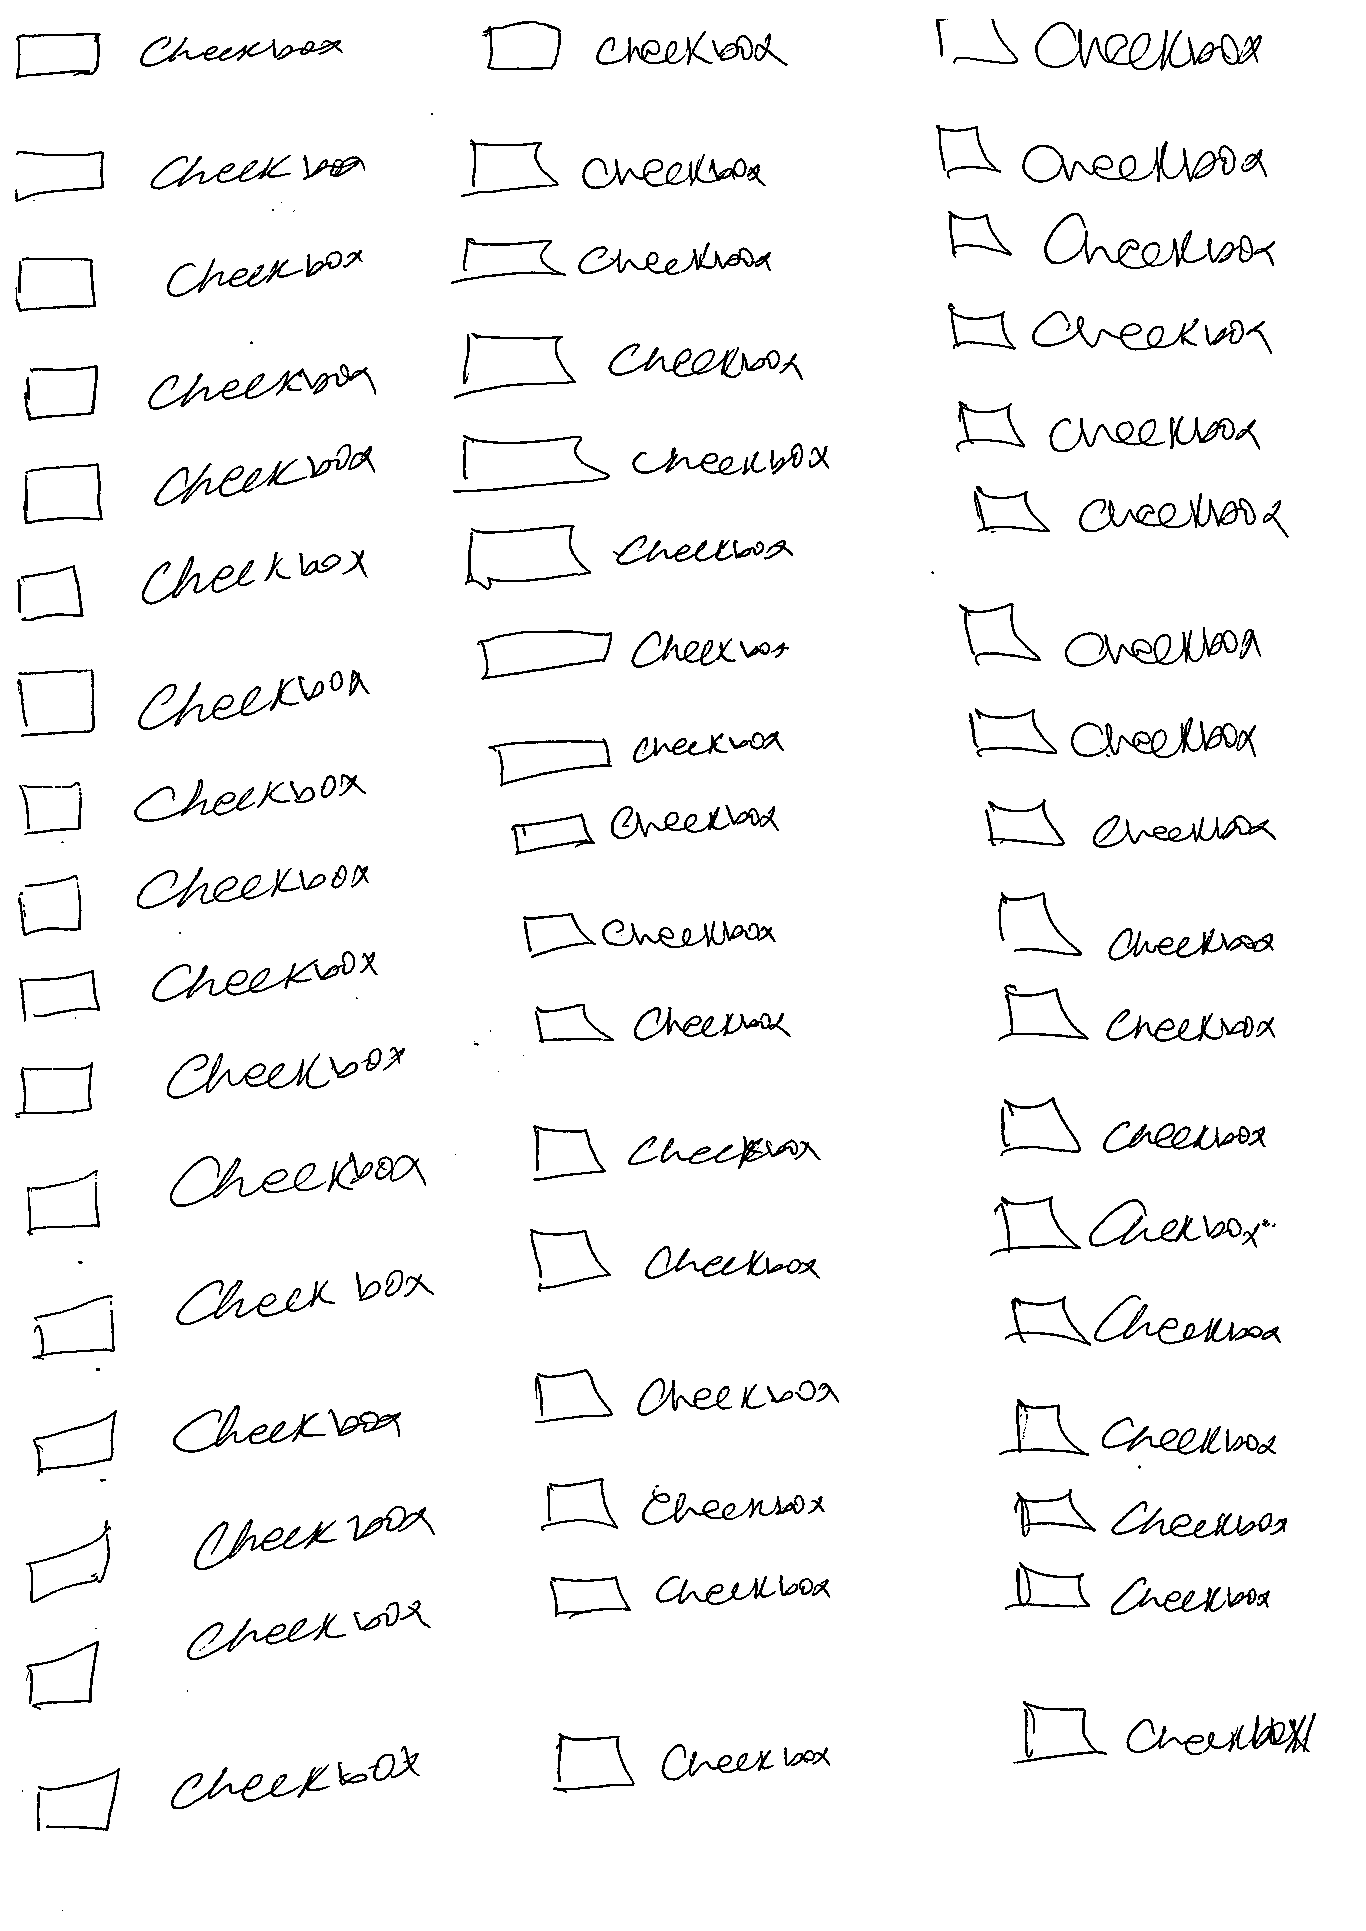Check Box: (34, 1740, 421, 1836), (30, 1266, 432, 1356), (22, 1147, 424, 1235), (21, 1042, 411, 1121), (13, 858, 381, 937), (19, 942, 384, 1022), (24, 442, 377, 522), (13, 665, 374, 741), (455, 327, 807, 399), (13, 552, 367, 622), (15, 245, 364, 315), (956, 594, 1271, 671), (945, 206, 1282, 276), (1022, 1689, 1328, 1765), (931, 118, 1276, 186), (16, 770, 367, 835), (18, 361, 378, 423), (936, 7, 1271, 74), (15, 145, 370, 204), (526, 1224, 823, 1294), (534, 1362, 843, 1427), (466, 135, 766, 200), (531, 1116, 820, 1181), (551, 1725, 840, 1791), (541, 1473, 834, 1536), (942, 302, 1271, 356), (482, 16, 784, 75), (458, 229, 772, 285), (546, 1567, 832, 1626), (13, 30, 346, 80), (519, 906, 786, 964)
